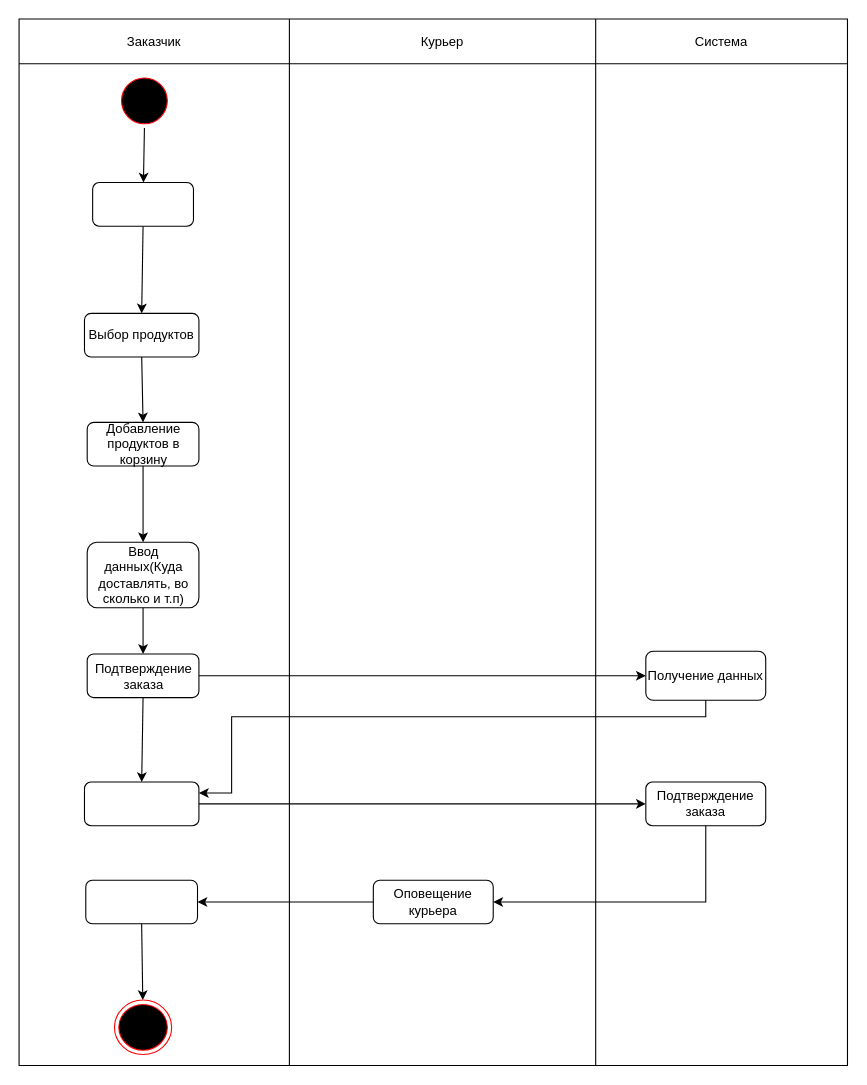
This 867x1085 diagram has some shape labels left out. The shapes that lost their labels are listed below. From the top down, each one's centre as x and y in pixels, then its label:
At point 142,203: "Выбор магазина".
At point 141,803: "Оплата".
At point 141,901: "Оповещение заказчика о принятии заказа".
